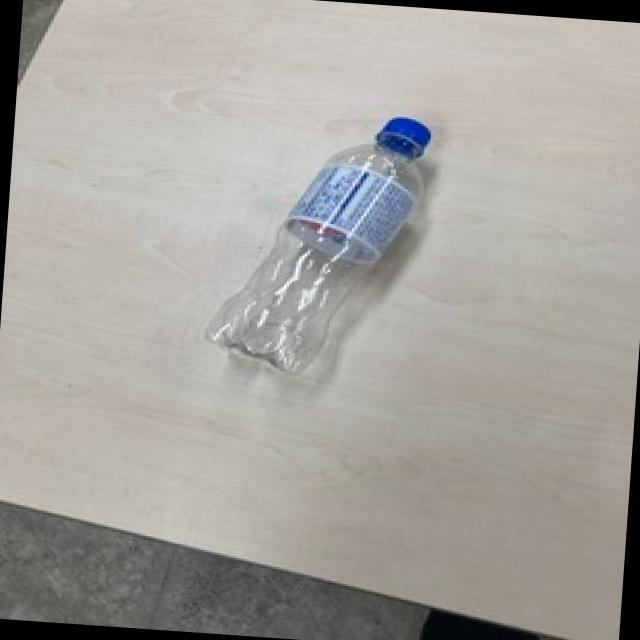good: (198, 92, 436, 387)
